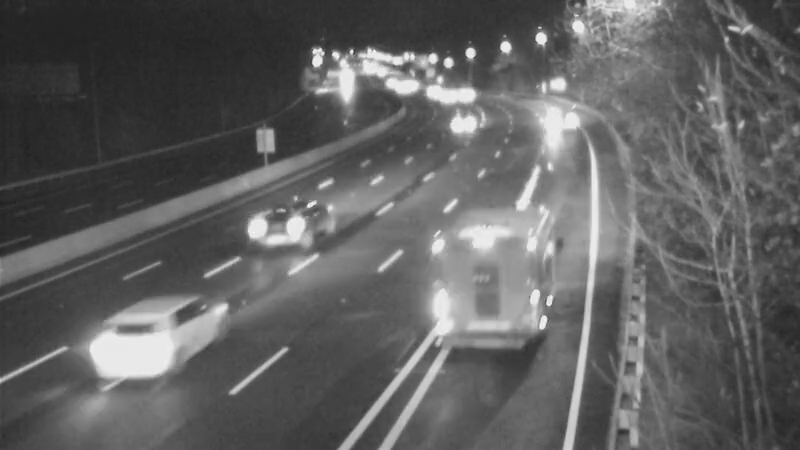vehicle: (75, 292, 185, 402), (249, 185, 329, 265), (449, 234, 529, 314), (376, 63, 426, 113), (404, 63, 454, 113), (440, 71, 490, 121), (415, 73, 465, 123), (528, 95, 578, 145), (436, 101, 486, 151)
